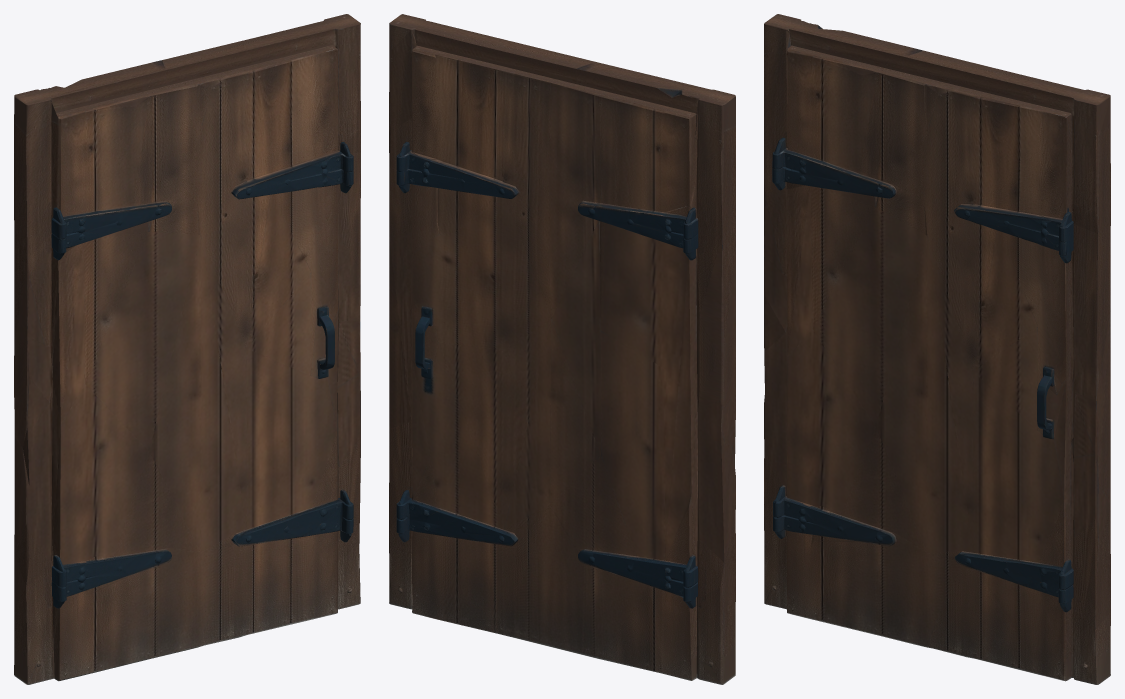
File: hut_door_leaf.glb
The picture shows the model from 3 angles, left to right: view 1: azimuth 30°, elevation 25°; view 2: azimuth 150°, elevation 25°; view 3: azimuth 330°, elevation 25°; orthographic projection.
Visible parts, largest first — view 1: hut_door_leaf_0; view 2: hut_door_leaf_0; view 3: hut_door_leaf_0.
Boxes of the visible parts, x1,y1,x2,y2 form: hut_door_leaf_0: [14, 14, 360, 684]; hut_door_leaf_0: [389, 14, 735, 684]; hut_door_leaf_0: [764, 14, 1110, 684].
Bounding box in the file's own units: 1.27 × 2.1 × 0.2647.
1 material, 1 textured.
